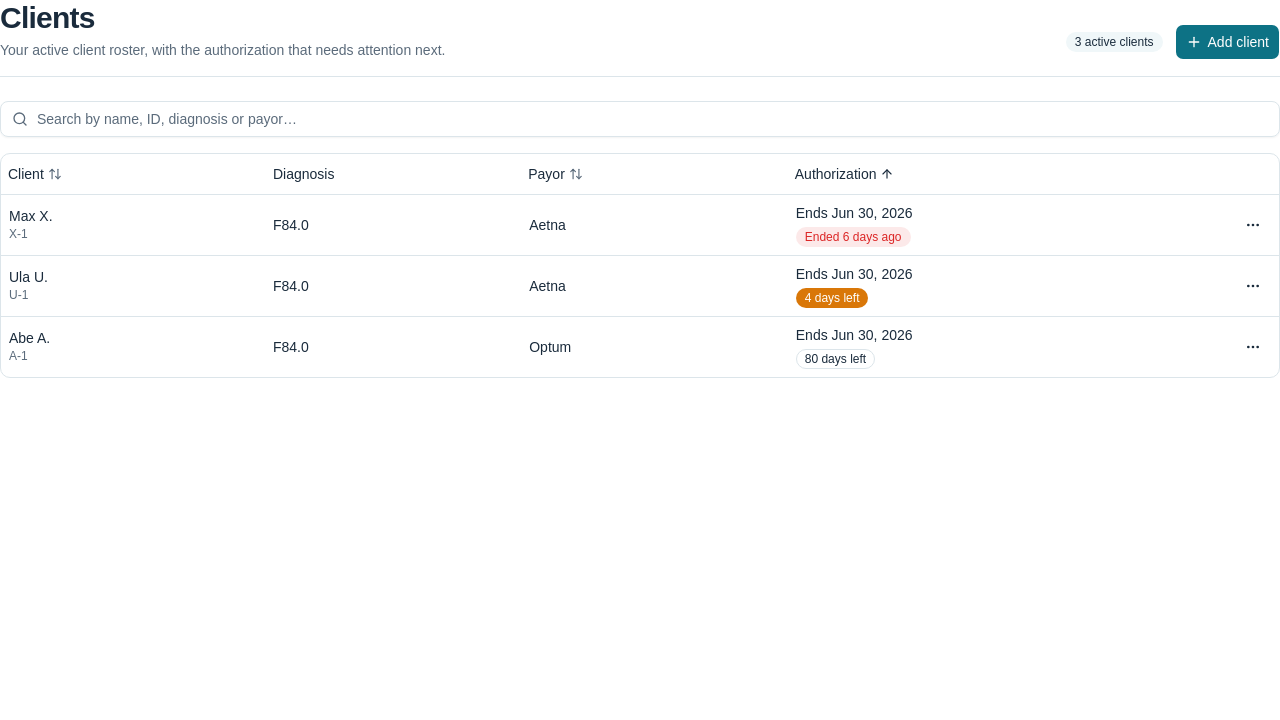
Test: Clients page › archives only after confirming, and the client leaves the list
This screenshot has width=1280, height=720.
Expected: the text "3 active clients" is shown, left=1066, top=32, right=1162, bottom=52
Click the button named "Actions for Ula U.".
click(1253, 286)  # box left=1235, top=268, right=1271, bottom=304
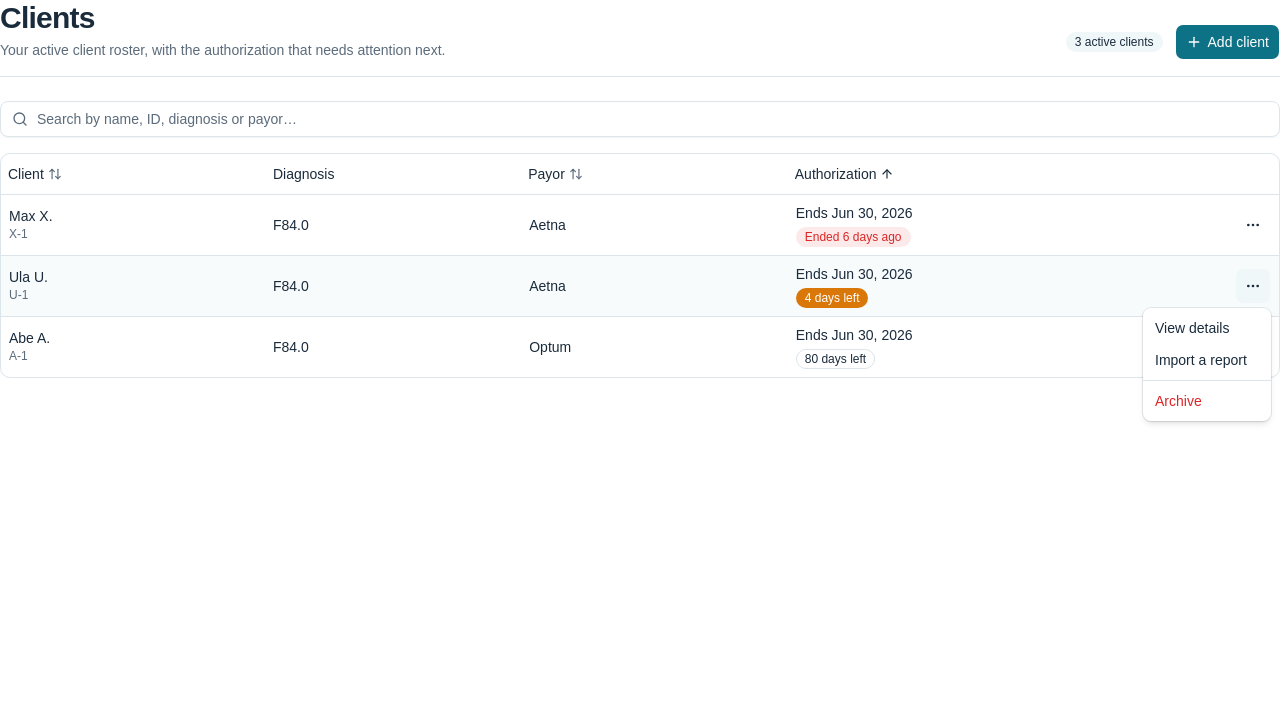
Click the menu item "Archive".
click(1178, 401)  # box left=1155, top=393, right=1202, bottom=409
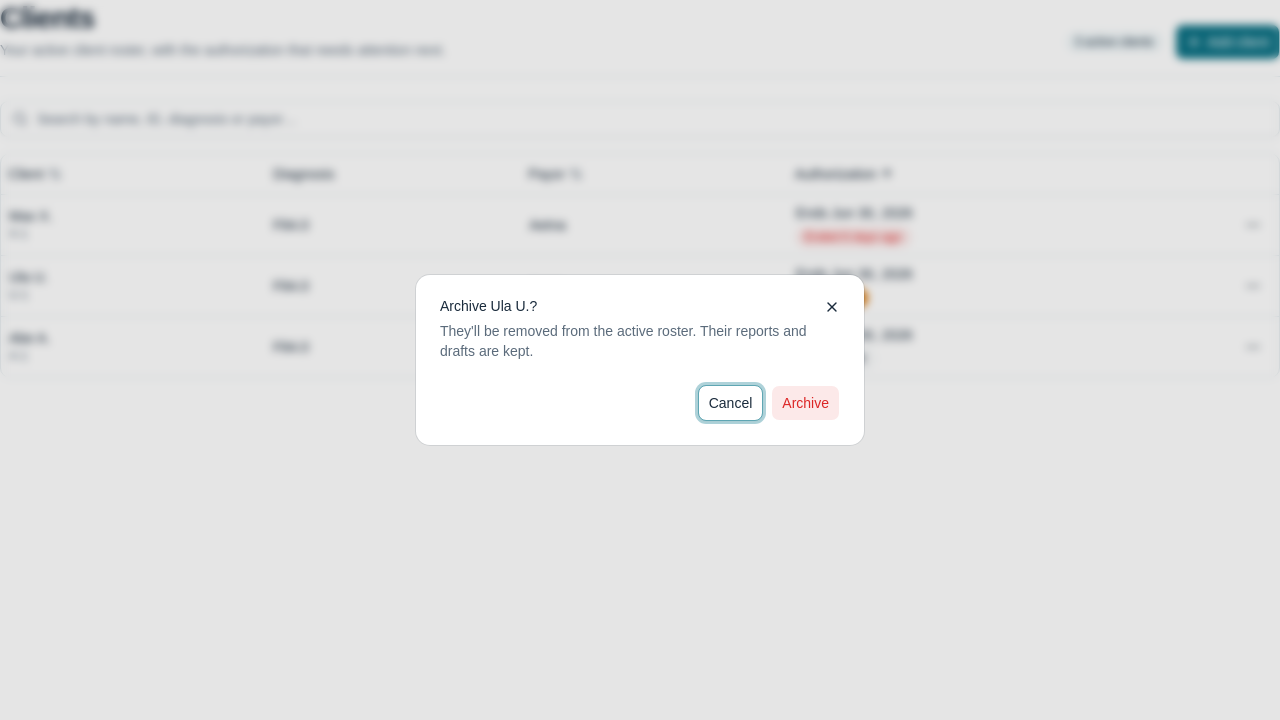
Now the heading "Archive Ula U.?" is shown, box left=440, top=298, right=537, bottom=314
Click the button "Archive".
click(806, 403)  # box left=771, top=385, right=840, bottom=421
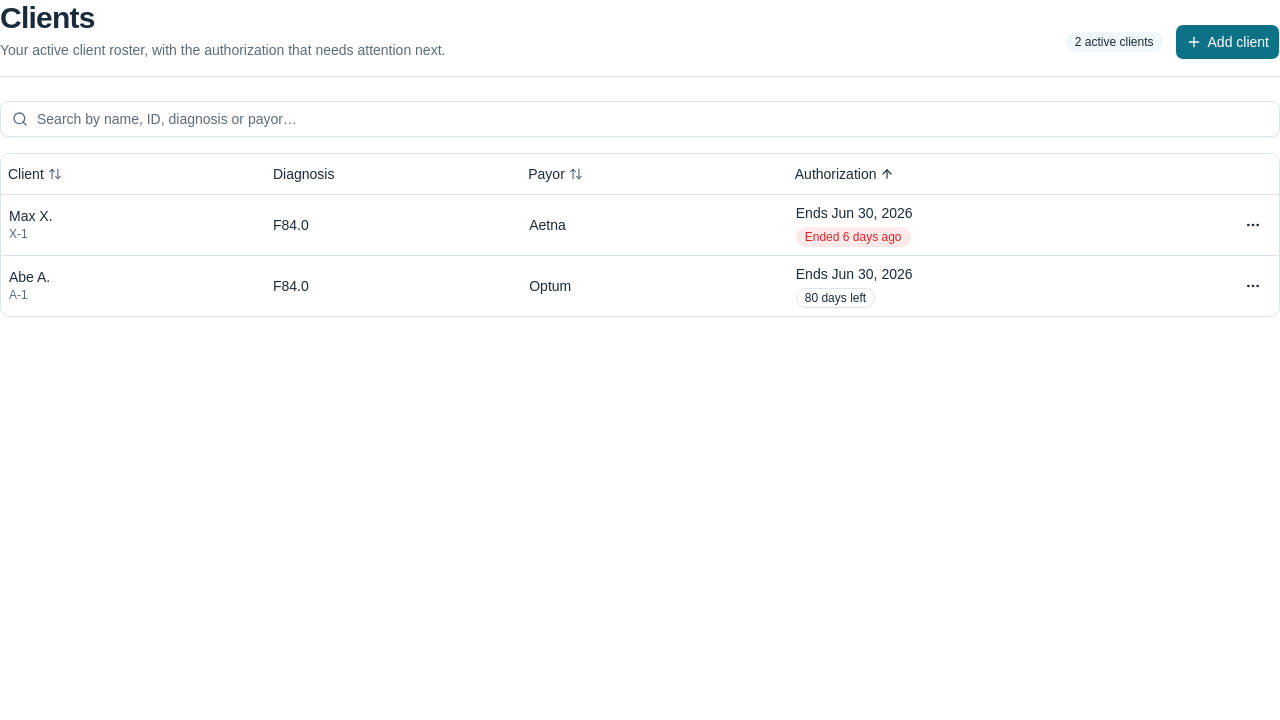
Now the text "2 active clients" is shown, box left=1066, top=32, right=1162, bottom=52
Now the button "Ula U." is gone
